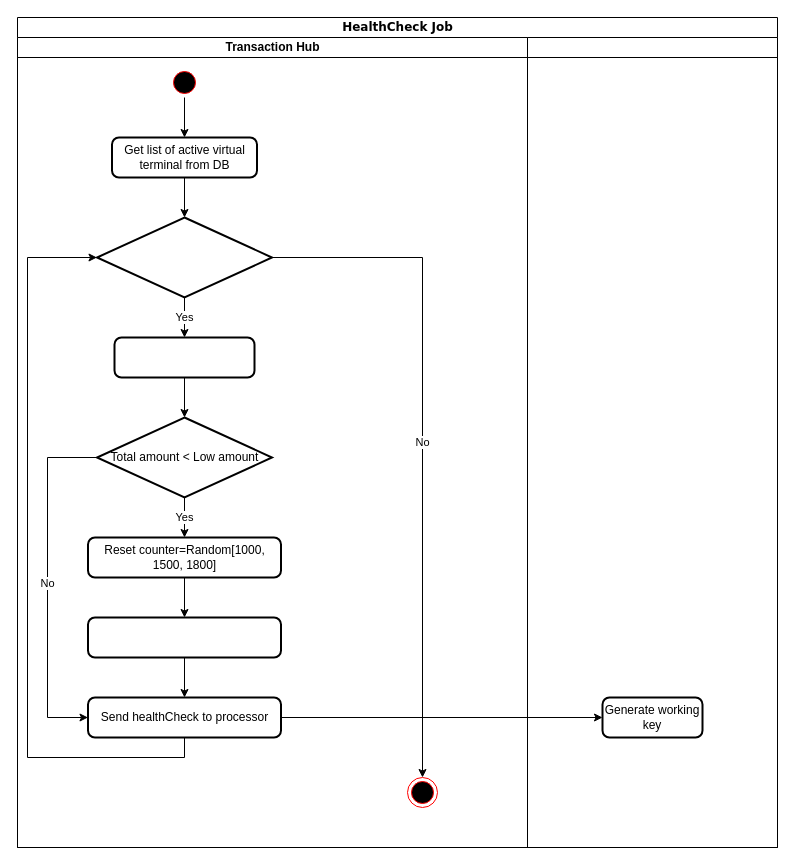
The diagram is 795 pixels wide and 865 high, and some of its shapes have lost their labels. Each missing label, with the box of its shape:
Get current virutal terminal info: (113, 336, 255, 378)
Loop in list: (96, 216, 272, 298)
Processor: (526, 36, 778, 848)
Update counter to DB: (86, 616, 282, 658)
